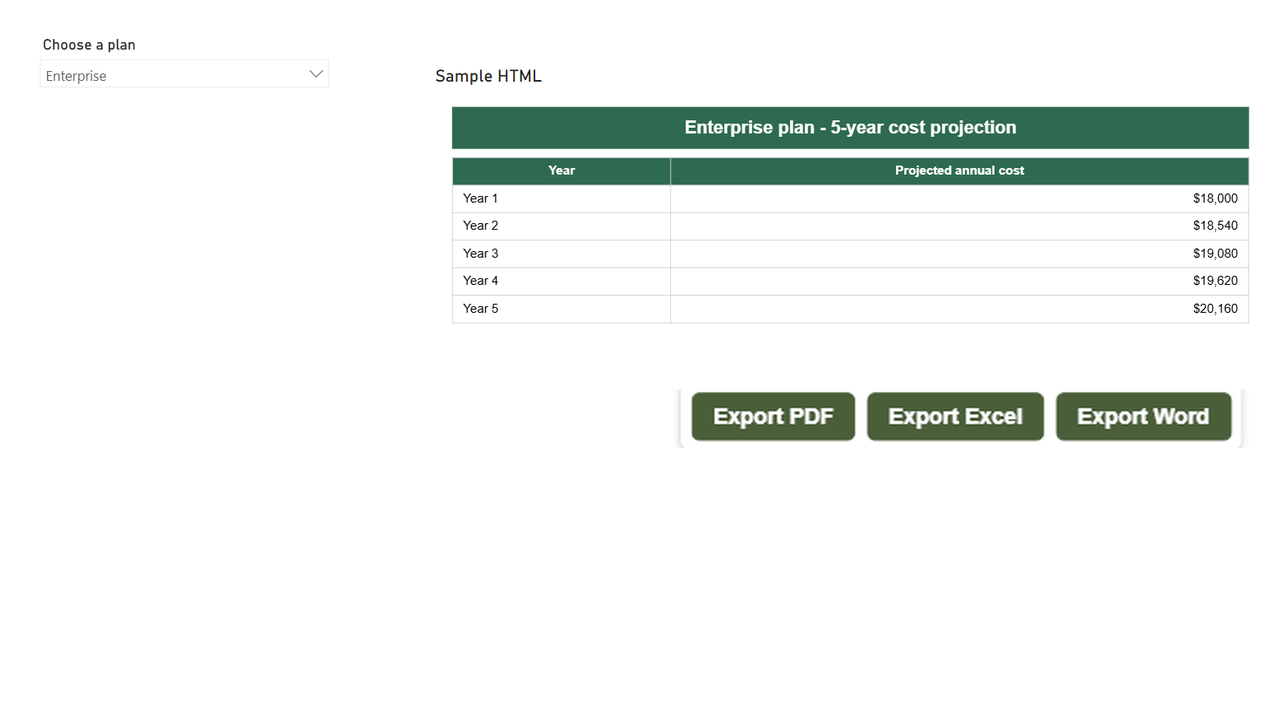

Layout of this report page (visuals, bound fields, positions):
{"tool":"powerbi","page":{"name":"Subscription Cost Projection Demo","canvas":[1280,720],"ordinal":0},"visuals":[{"type":"slicer","fields":{"Values":["Plan.PlanName"]},"box":[20,20,300,140],"z":0},{"type":"htmlExportViewerEC647216FCDEE1F987A31BE6ADDB5510","fields":{"content":["Plan.Sample HTML"]},"box":[408.4,53.7,814.3,614.9],"z":1}]}

Visuals, with their boxes in screenshot pixels (x1, y1, x2, y2), scaled from the page's 1280x720 canvas onto the 1280x720 screenshot:
slicer - Plan.PlanName: 20 20 320 160
htmlExportViewerEC647216FCDEE1F987A31BE6ADDB5510 - Plan.Sample HTML: 408 54 1223 669
